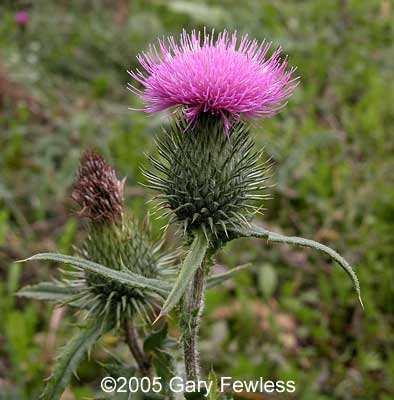thistle: (118, 26, 283, 235)
